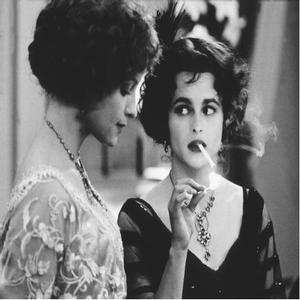cigarette: (196, 141, 219, 173)
